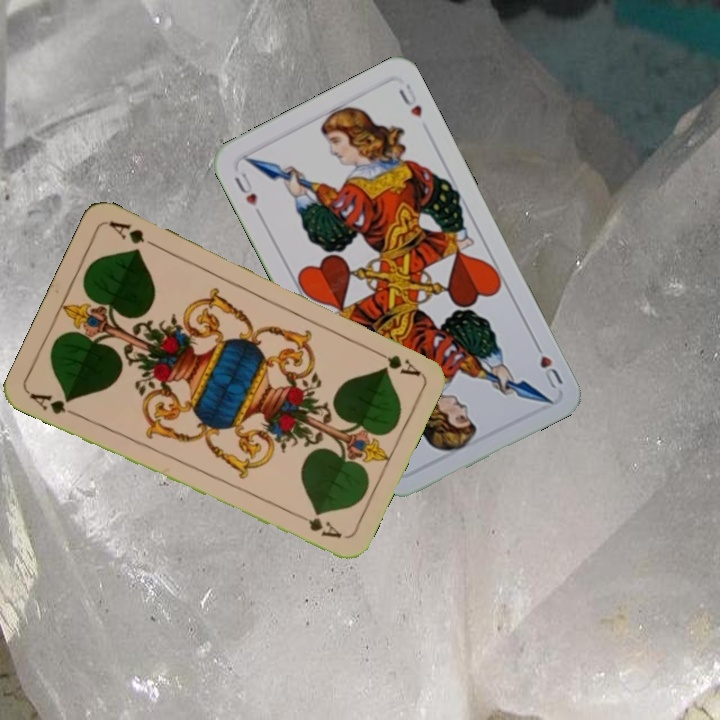GA: (367, 344, 423, 379), (25, 389, 82, 420)
HU: (530, 337, 566, 392), (230, 168, 260, 209)
